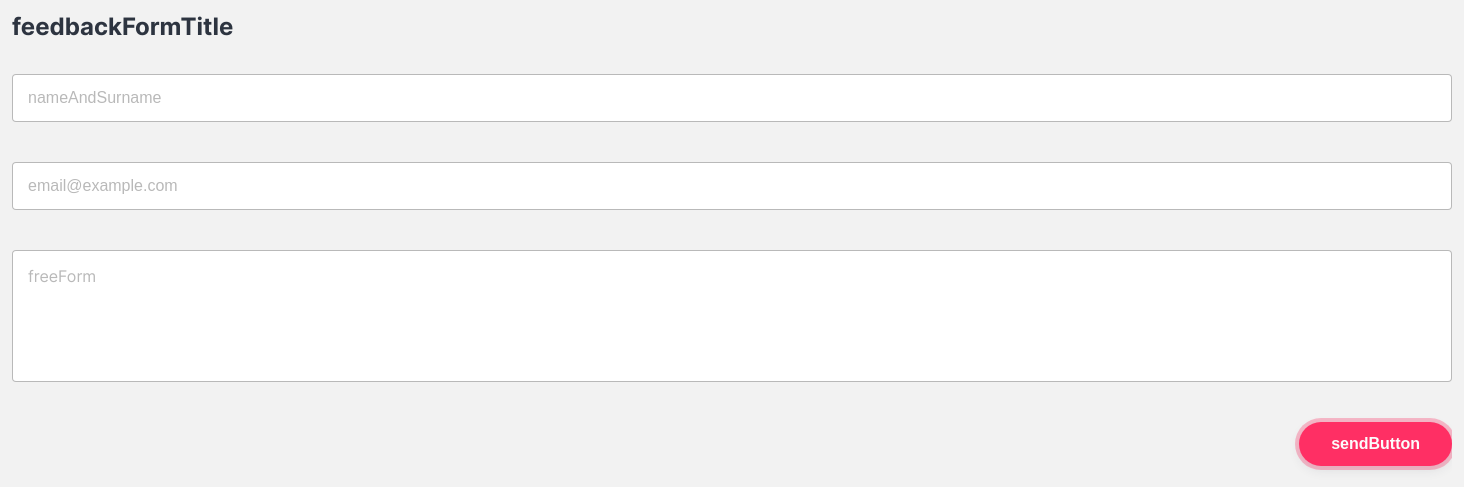
Scenario: Feedback Canvass Tests › render and validation
// Unsuccessful validation of the form
What coordinates should you click on to do the following:
click the button with test id "demo-button"
I would click on:
 (1376, 444)
Its box is x1=1299 y1=422 x2=1452 y2=466.
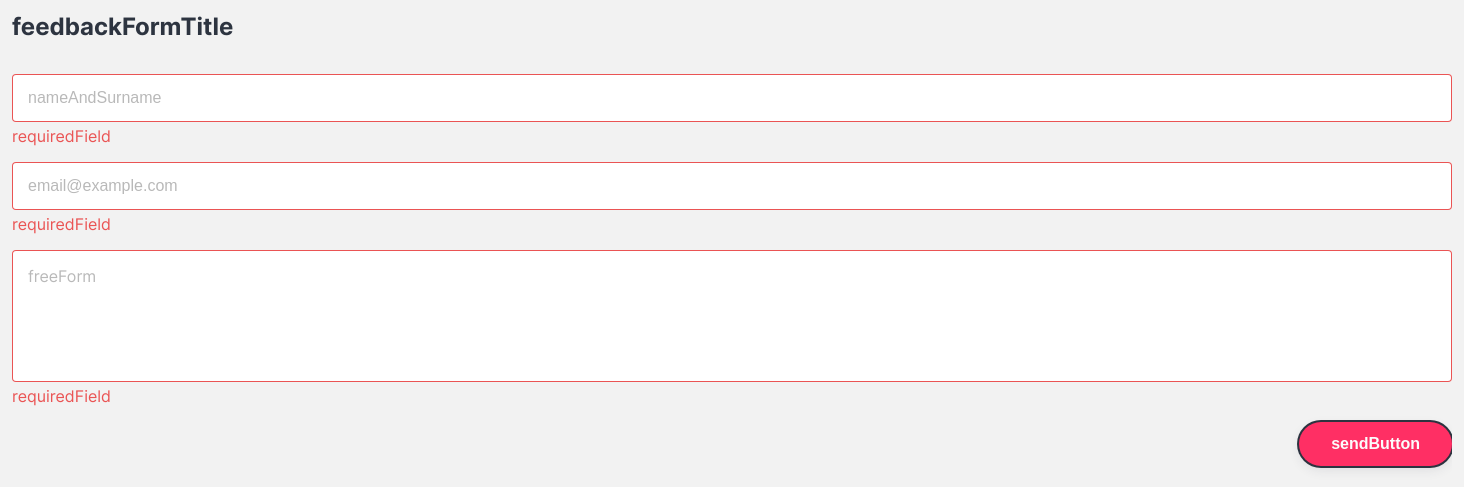
Expected: the text with test id "demo-error-message" reads "requiredField", x1=12 y1=386 x2=111 y2=406
